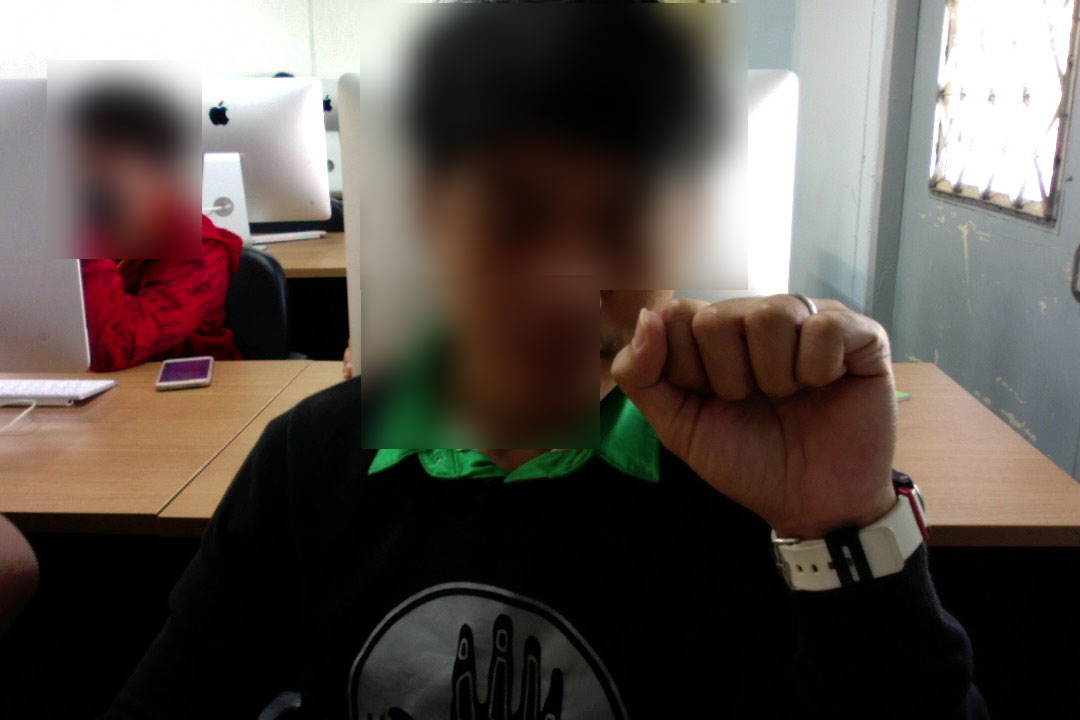sor: (592, 276, 905, 516)
